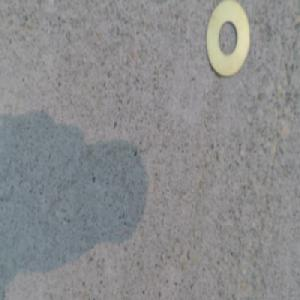Washer: (203, 12, 250, 79)
